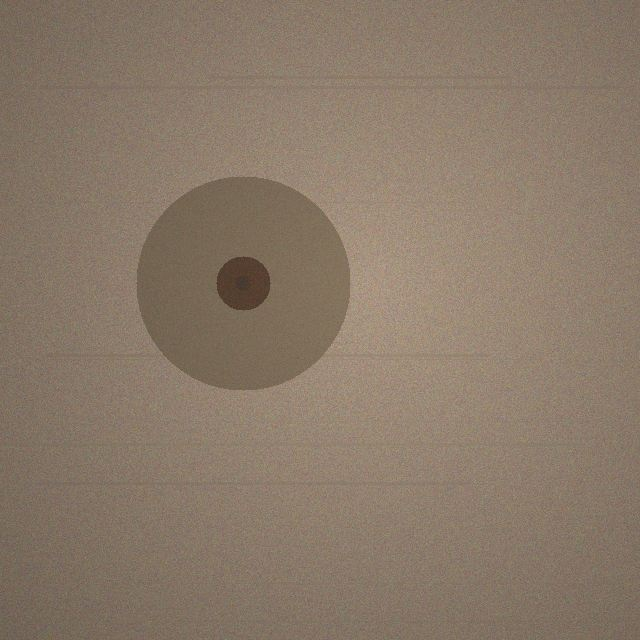cold_weld: (136, 176, 350, 390)
